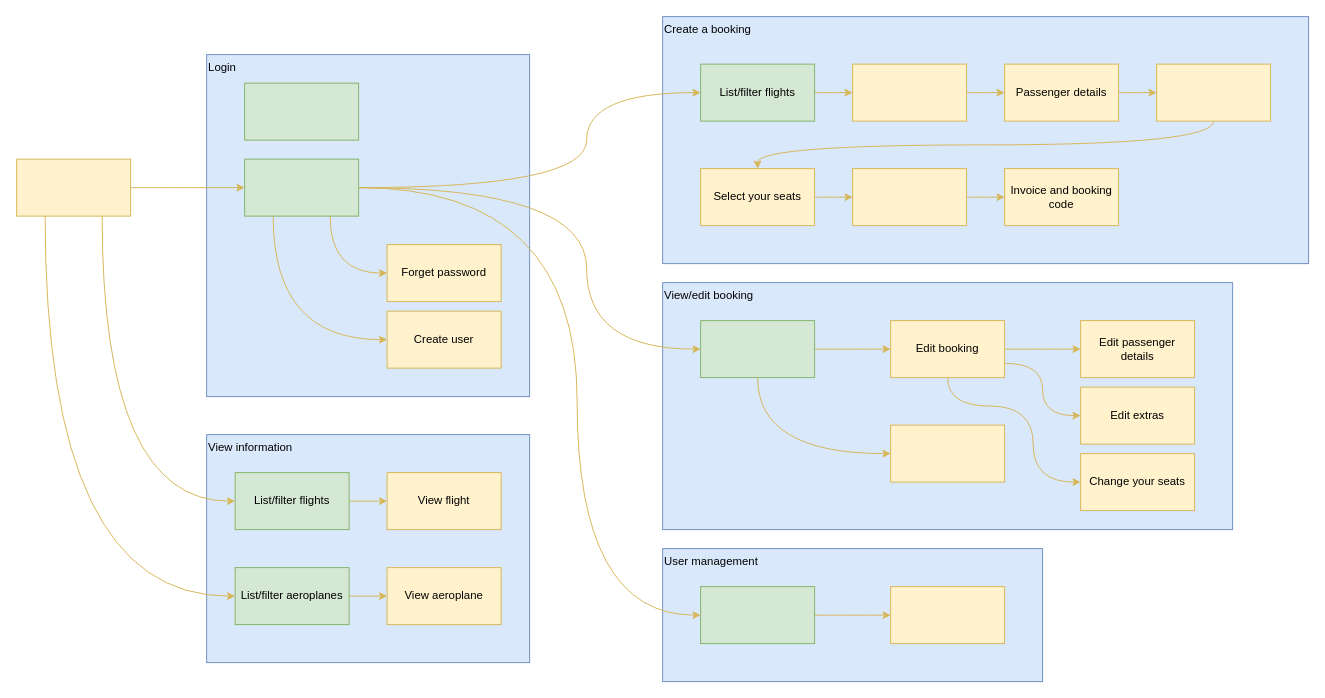
The diagram is 1325 pixels wide and 698 high, and some of its shapes have lost their labels. Here are the shapes that lost their labels. From the top down, the centre of each, then its label:
(x=301, y=111): Email confirmation
(x=909, y=92): Select your flights
(x=1213, y=92): Extras
(x=73, y=187): Landing
(x=301, y=187): User login
(x=909, y=197): Review and pay
(x=757, y=349): List bookings
(x=947, y=453): Cancel booking
(x=757, y=615): View/edit user
(x=947, y=615): Delete user
